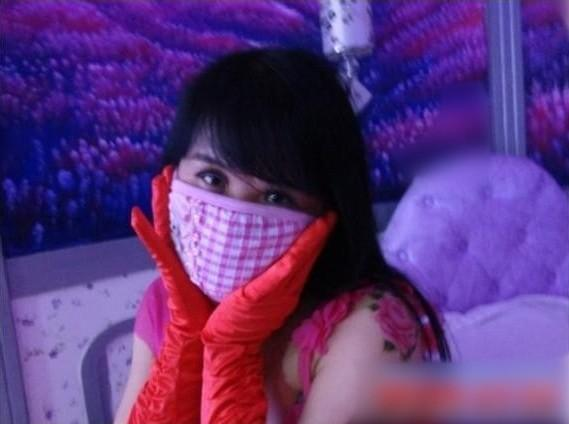OK: (174, 149, 327, 302)
